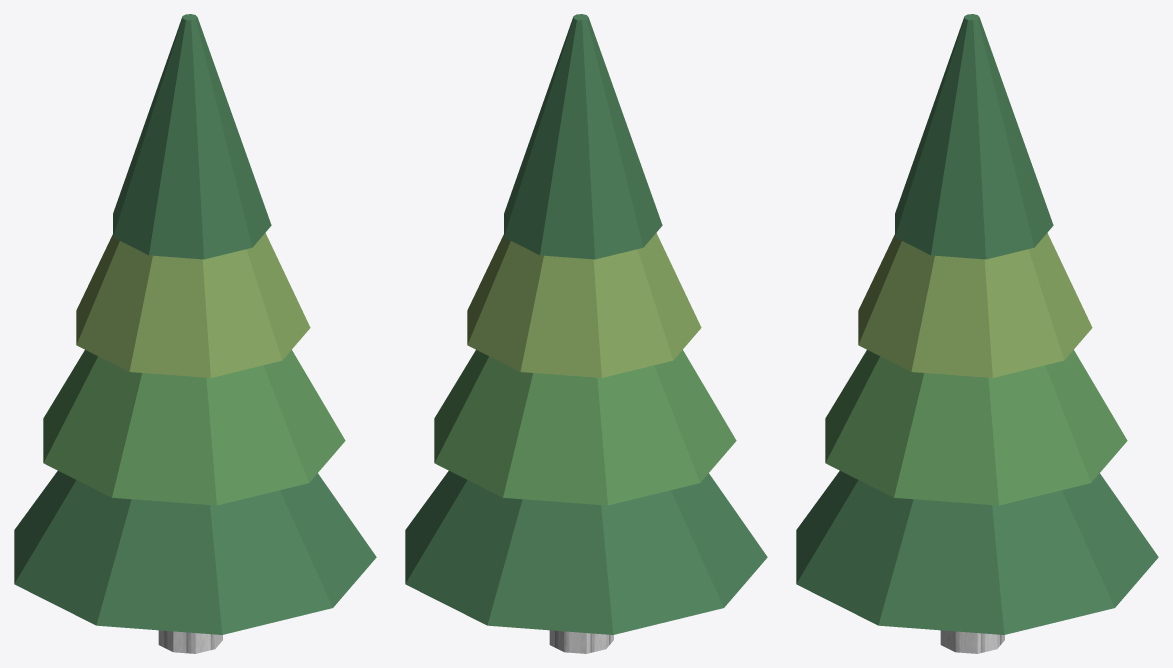
File: pine_tree.glb
3 views of the same model, side by side, from view 1: azimuth 30°, elevation 25°; view 2: azimuth 150°, elevation 25°; view 3: azimuth 270°, elevation 25° (orthographic).
Parts seen in each view (by area): view 1: PineTree_Geometry; view 2: PineTree_Geometry; view 3: PineTree_Geometry.
Part boxes in pixels (left/top/right/bottom): PineTree_Geometry: left=14, top=14, right=376, bottom=653; PineTree_Geometry: left=405, top=14, right=767, bottom=653; PineTree_Geometry: left=796, top=14, right=1158, bottom=653.
Size of the model in its own units: 1.89 by 3.53 by 1.86.
4 materials, 1 textured.
